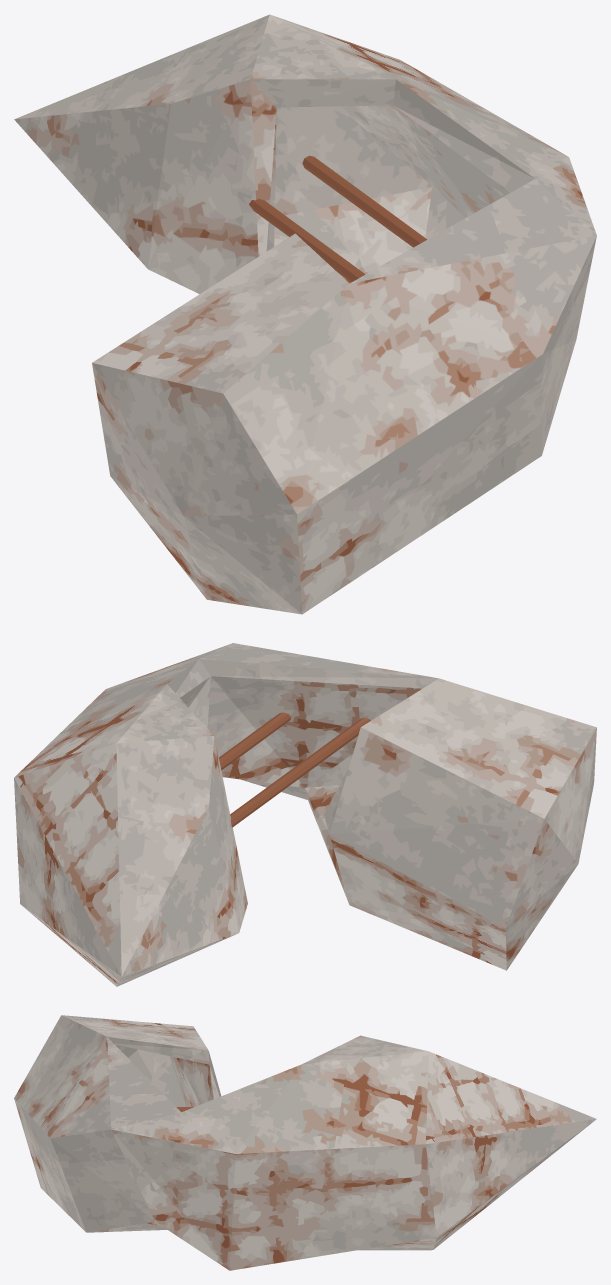
File: escombro2.glb
3 views of the same model, one above another, from view 1: azimuth 30°, elevation 25°; view 2: azimuth 150°, elevation 25°; view 3: azimuth 270°, elevation 25° (orthographic). The views are drawn at different scales.
Visible parts, largest first — view 1: Cylinder.002; view 2: Cylinder.002; view 3: Cylinder.002.
Boxes of the visible parts, x1,y1,x2,y2 form: Cylinder.002: (14, 14, 596, 614); Cylinder.002: (14, 643, 596, 986); Cylinder.002: (14, 1015, 596, 1270).
Size of the model in its own units: 5.78 by 3.98 by 8.51.
Materials: 1 (1 with a texture image).
